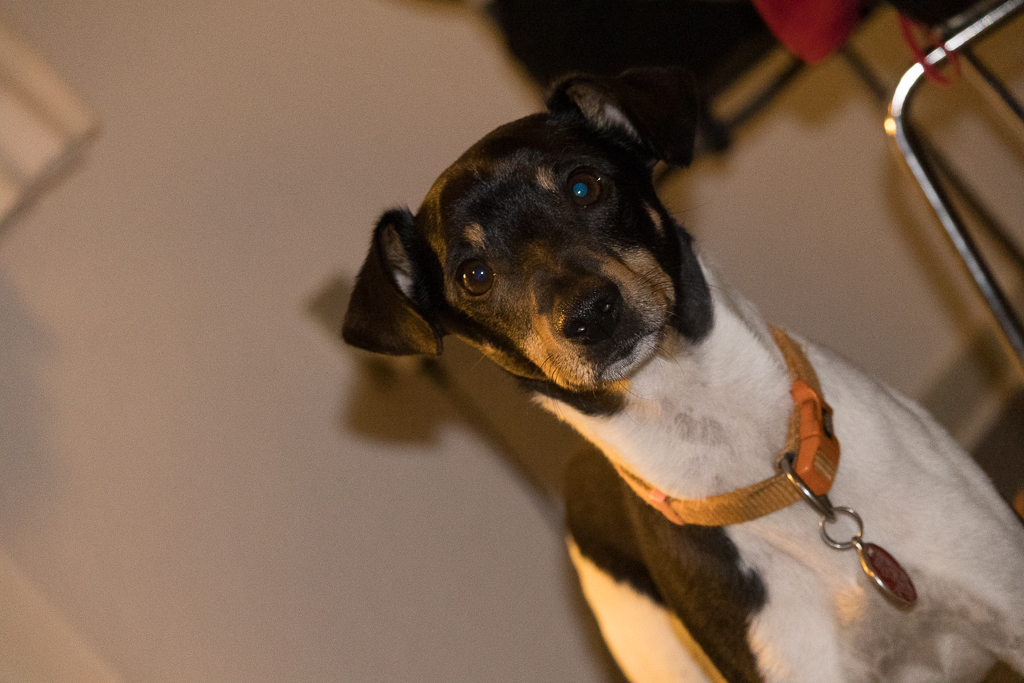Dog: (326, 51, 1024, 683)
